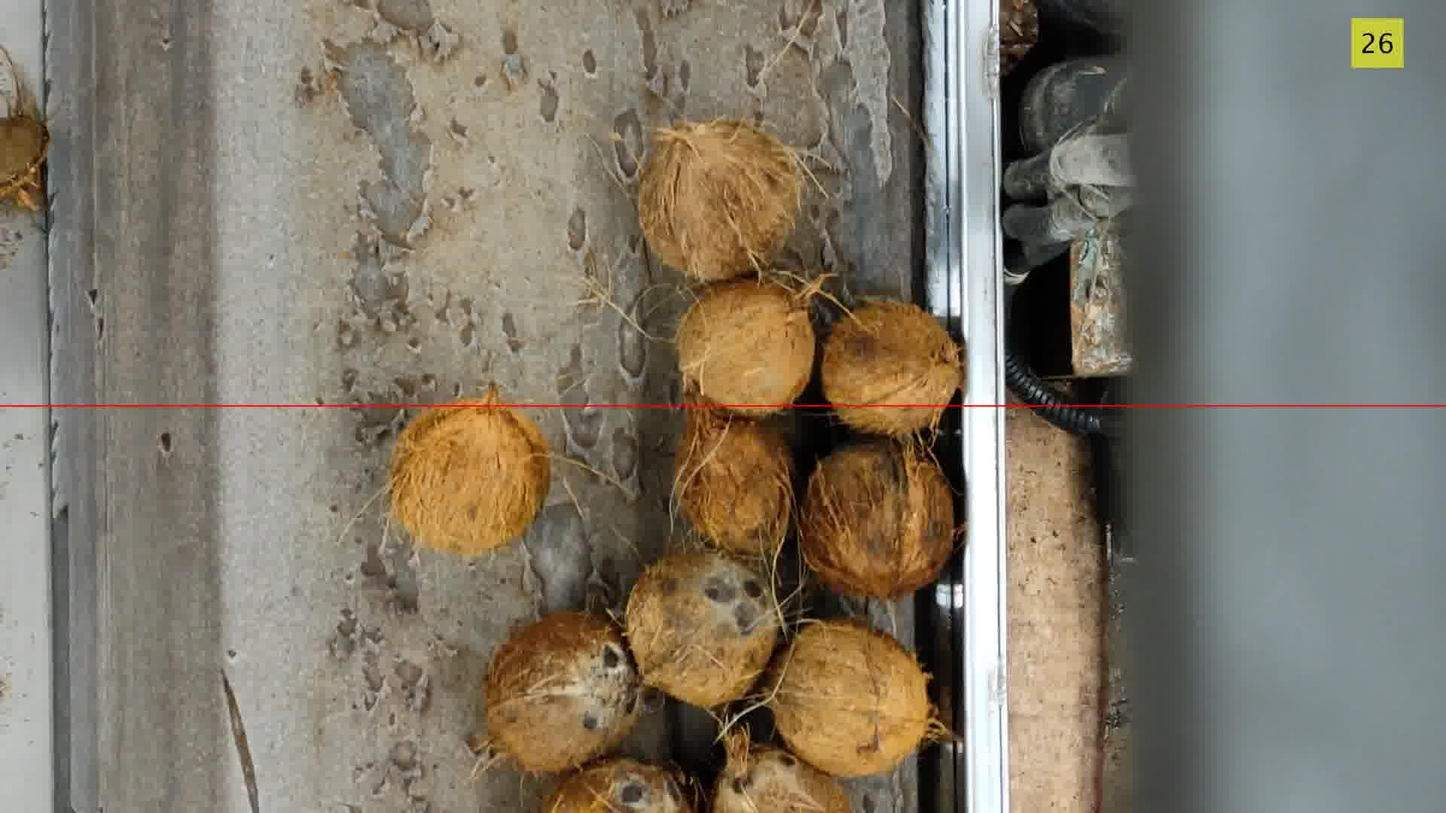Coconut: (761, 620, 941, 776), (639, 120, 801, 280), (798, 438, 954, 598), (625, 551, 780, 708), (487, 612, 639, 772), (409, 384, 550, 555), (821, 300, 965, 436), (673, 403, 795, 562), (676, 279, 816, 416), (711, 730, 853, 812), (542, 758, 694, 812), (0, 115, 50, 210)
